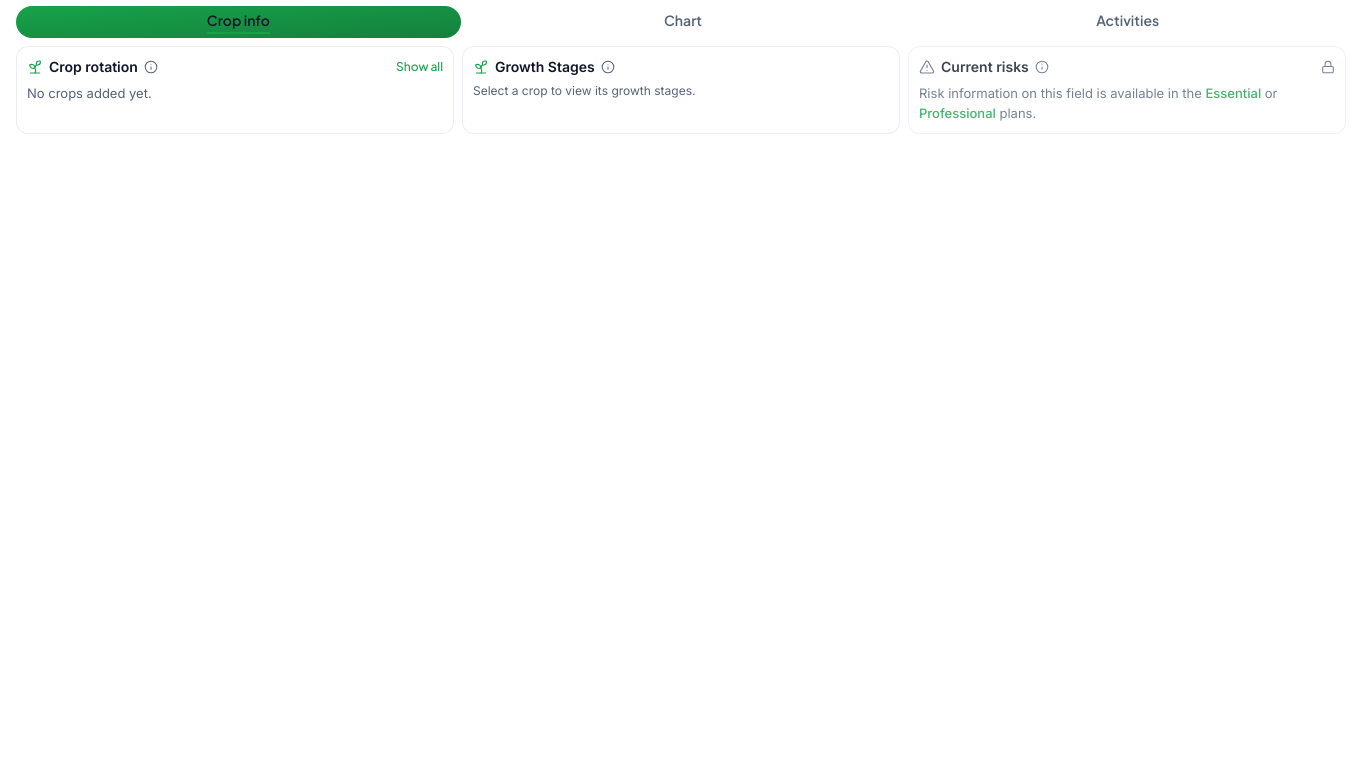
it: IndexPanel tabbed analytics (Phase F) › renders optional Sentinel-2 pipeline provenance without exposing proxy URLs
This screenshot has width=1366, height=768.
Step 1. Press the mouse on the tab with test id "index-panel-tab-chart" → (683, 22), box [461,6,905,38]
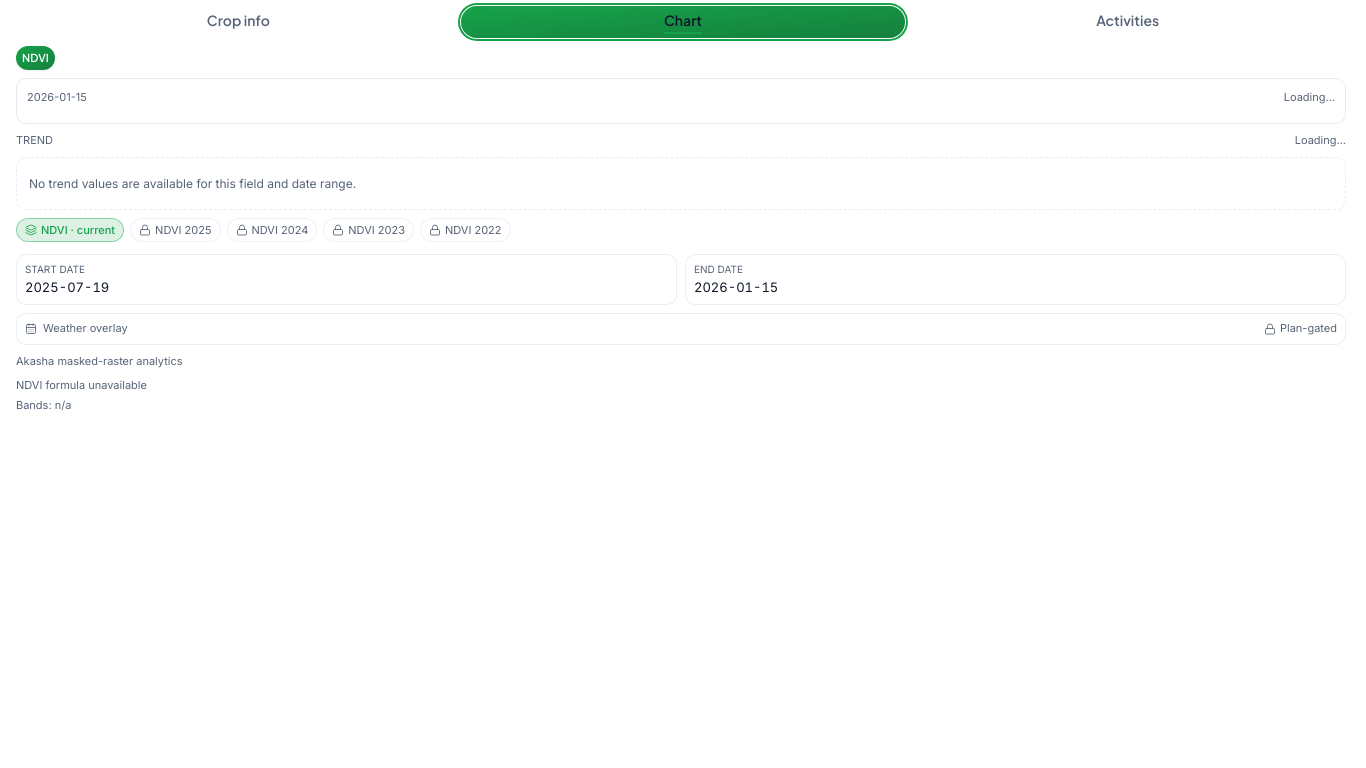
Step 2. Click the tab with test id "index-panel-tab-chart" → click(683, 22), box [461,6,905,38]
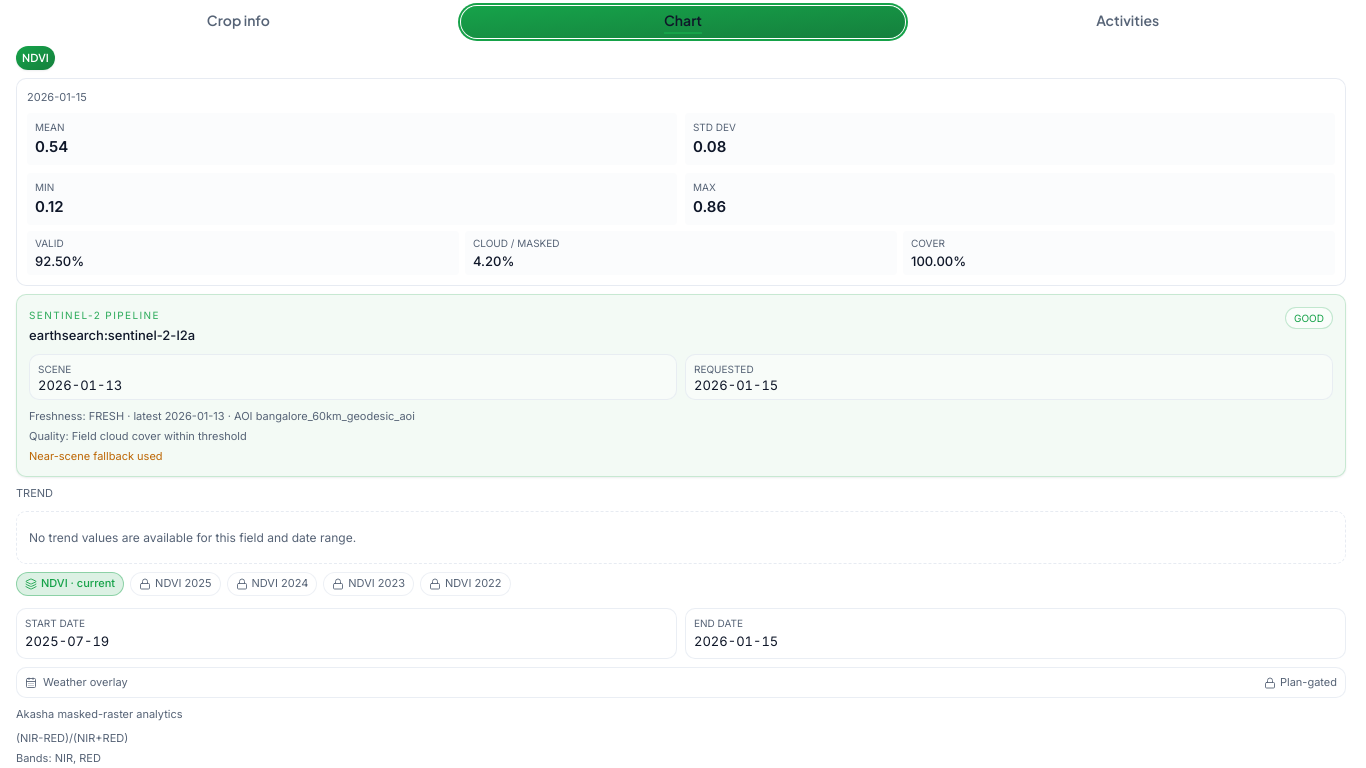
Check: the element with test id "analytics-pipeline-provenance" shows "earthsearch:sentinel-2-l2a", box [29,327,195,343]
Check: the element with test id "analytics-pipeline-provenance" shows "2026-01-13", box [38,377,122,393]
Check: the text with test id "analytics-pipeline-freshness" shows "Fresh", box [89,409,415,423]
